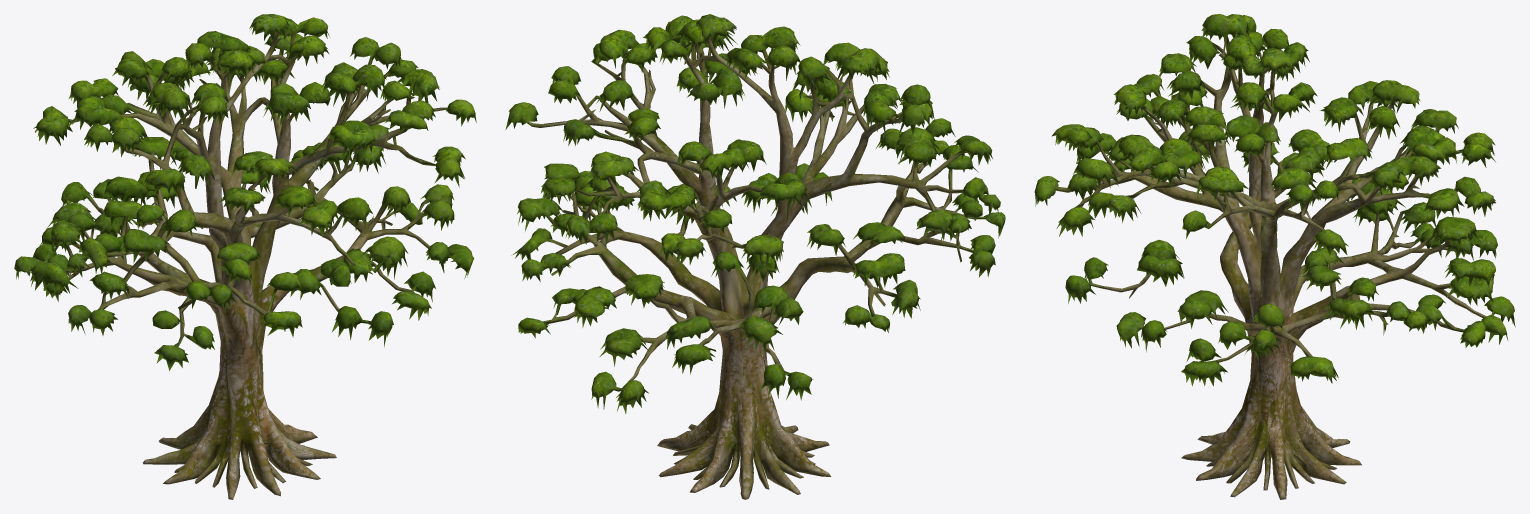
Rendered from VEG_ArbolTropical_02_LOD0.fbx.
The picture shows the model from 3 angles, left to right: view 1: azimuth 30°, elevation 25°; view 2: azimuth 150°, elevation 25°; view 3: azimuth 270°, elevation 25°; orthographic projection. The views are drawn at different scales.
Parts seen in each view (by area): view 1: VEG_ArbolTropical_02_Mesh000; view 2: VEG_ArbolTropical_02_Mesh000; view 3: VEG_ArbolTropical_02_Mesh000.
Boxes of the visible parts, bbox=[...] form: VEG_ArbolTropical_02_Mesh000: bbox=[14, 14, 476, 499]; VEG_ArbolTropical_02_Mesh000: bbox=[505, 14, 1005, 499]; VEG_ArbolTropical_02_Mesh000: bbox=[1034, 14, 1515, 499].
Size of the model in its own units: 16.25 by 16 by 16.47.
